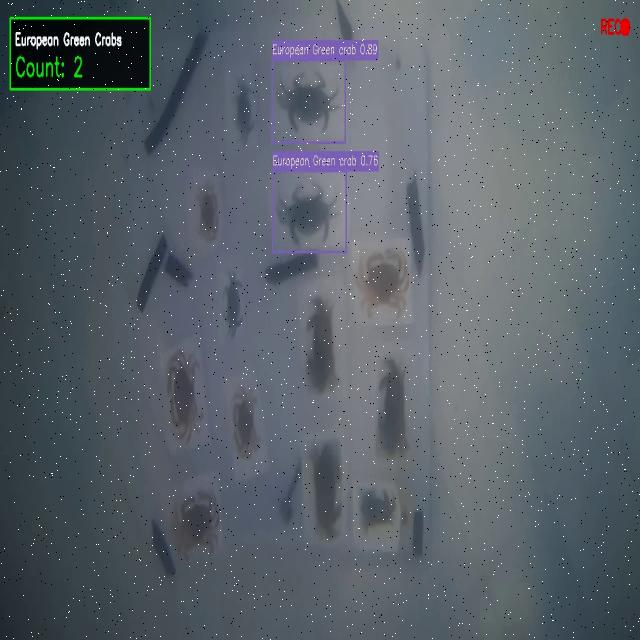European_Green_Crab: (275, 59, 343, 142), (275, 177, 343, 259), (230, 77, 260, 154), (220, 266, 245, 340)
